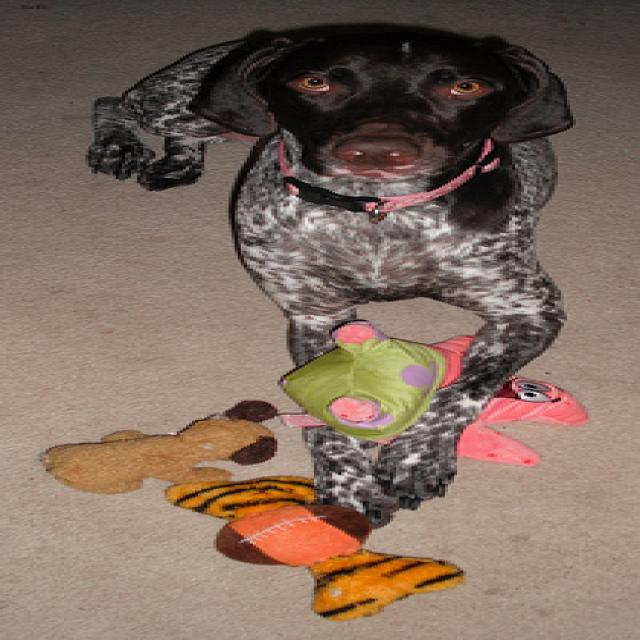dog-german_shorthaired: (52, 15, 613, 532)
